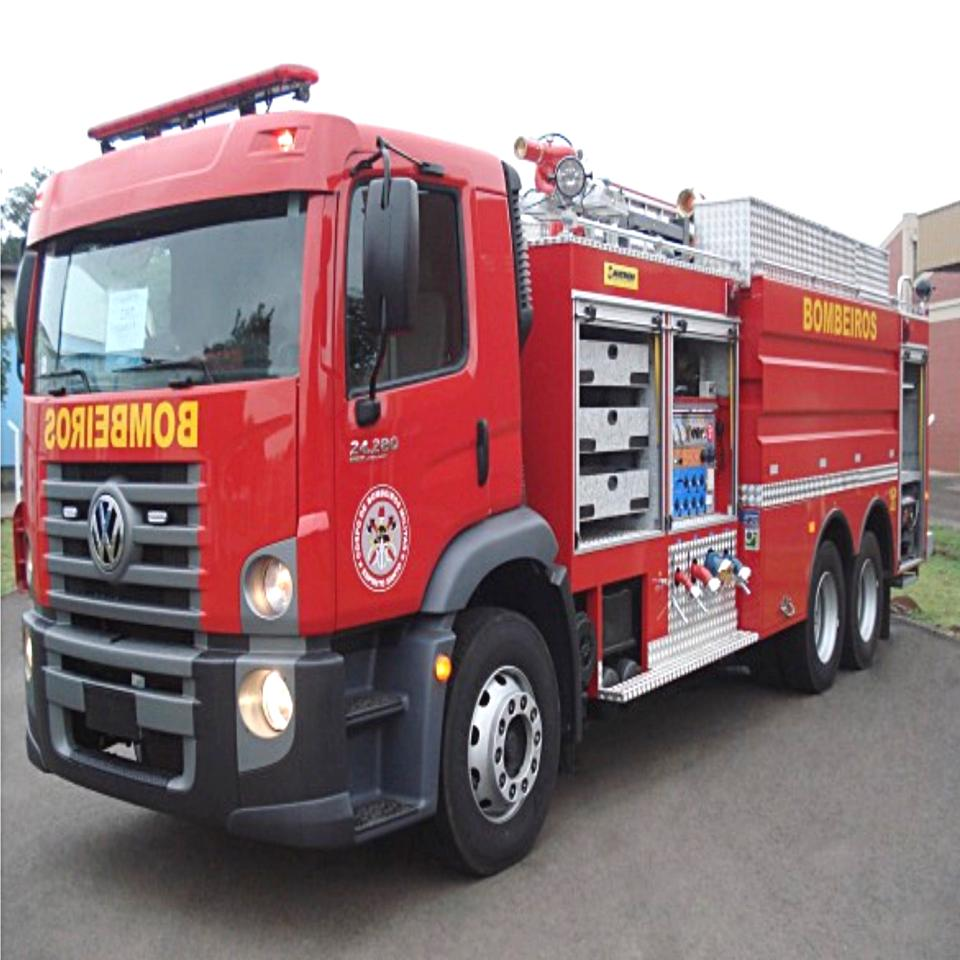bombeiro: (16, 63, 934, 879)
